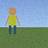person: (5, 8, 20, 34)
